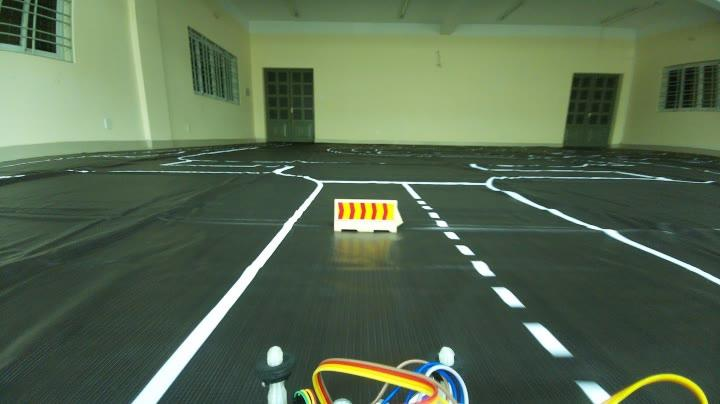roadblock: (330, 195, 413, 241)
